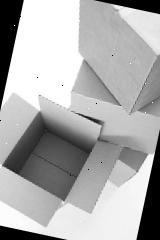paper: (0, 87, 130, 240), (60, 0, 160, 111), (61, 57, 160, 155), (0, 161, 69, 230)
